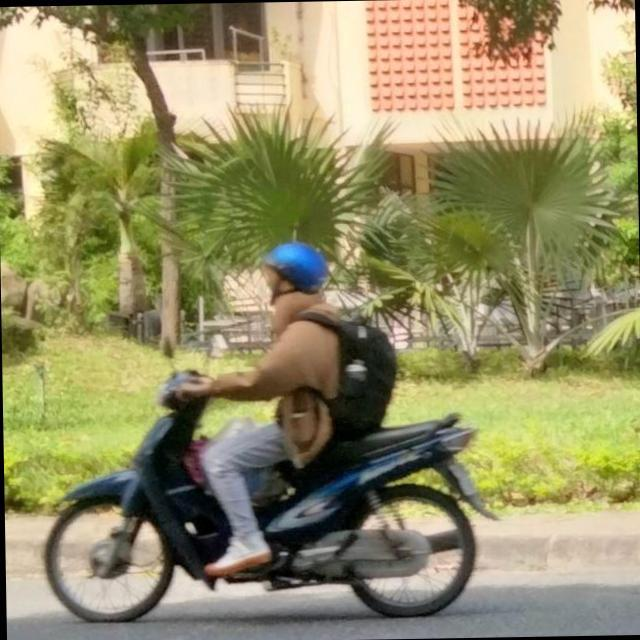WITH_HELMET: (260, 238, 327, 294)
